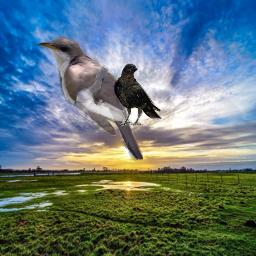Crow: (113, 63, 162, 126)
Cuckoo: (35, 34, 143, 164)
